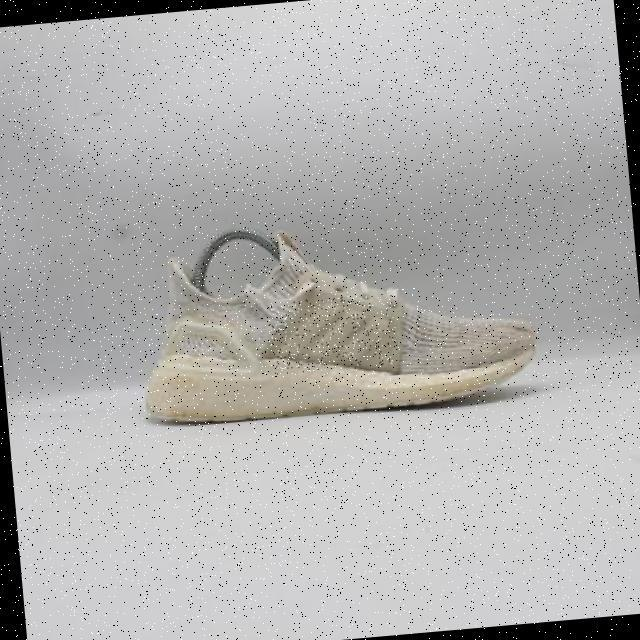Adidas: (266, 292, 398, 376)
